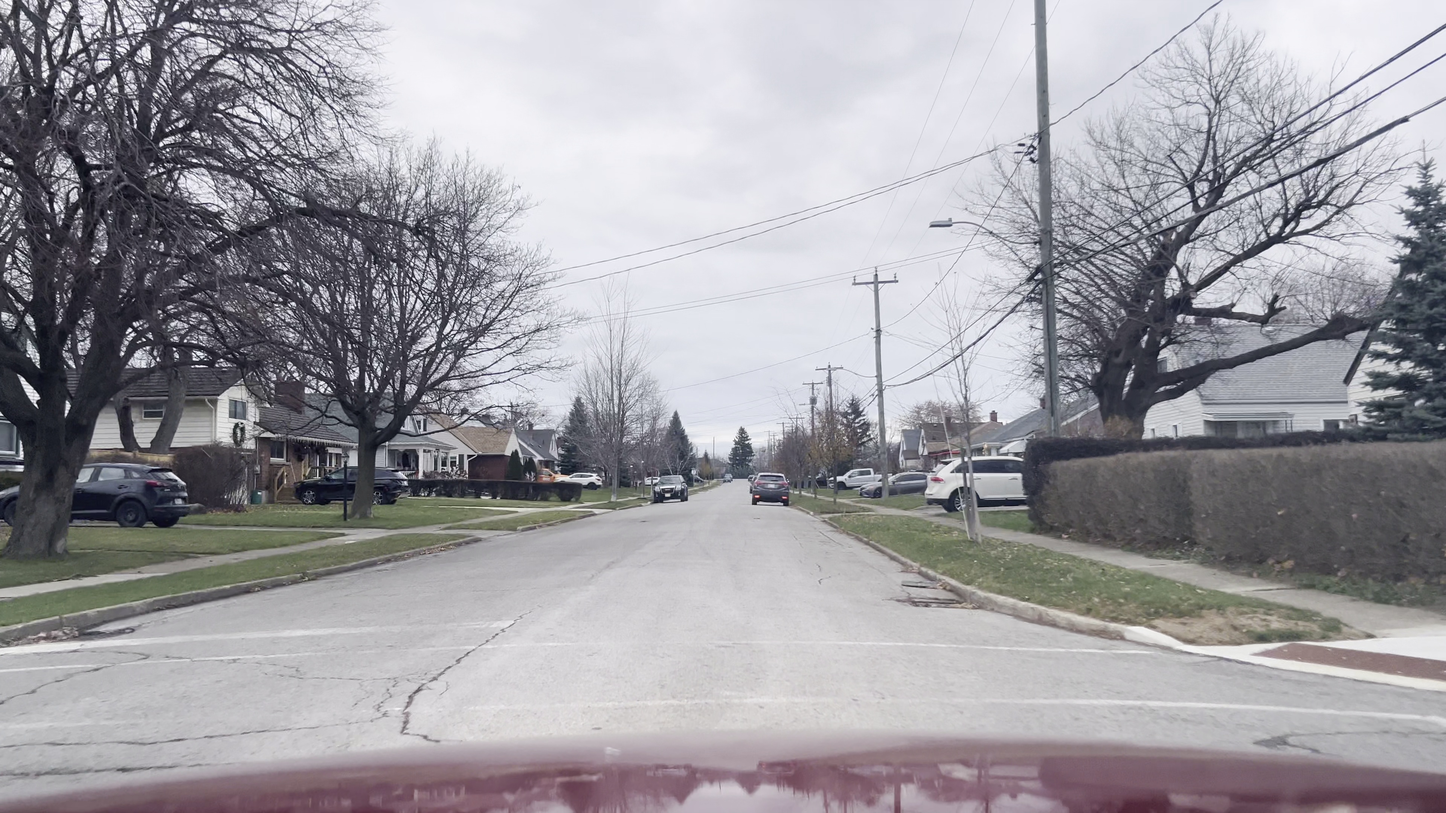cracks: (52, 753, 208, 790), (385, 691, 437, 739), (429, 641, 471, 689)
